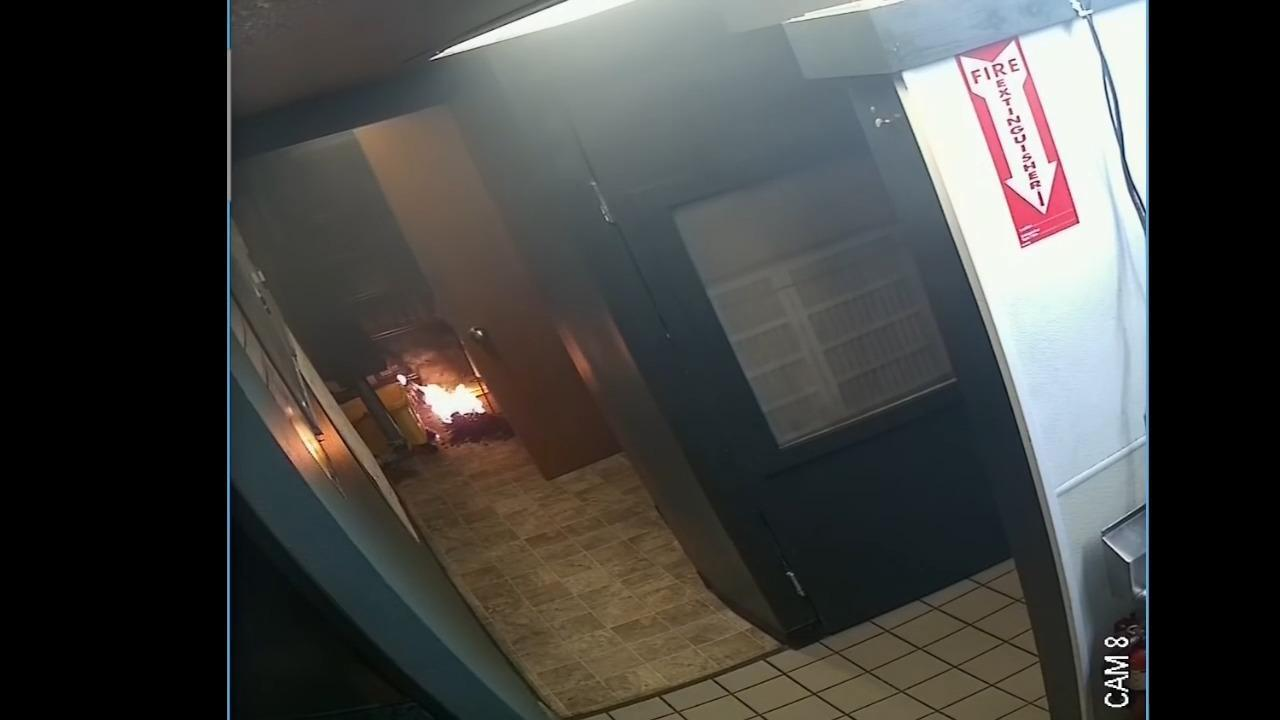fire: (397, 375, 485, 424)
